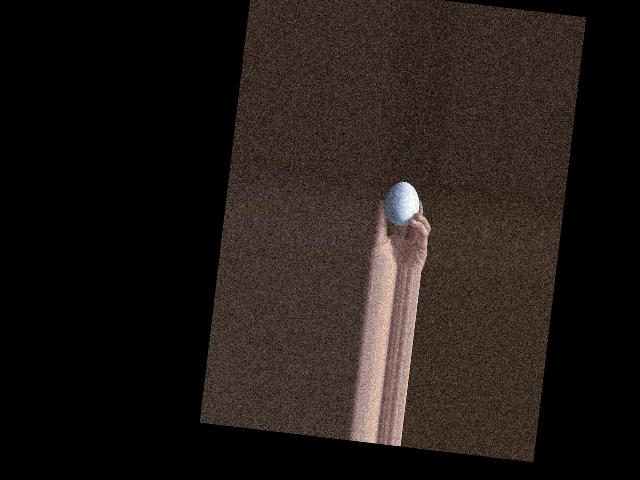egg: (382, 179, 422, 227)
